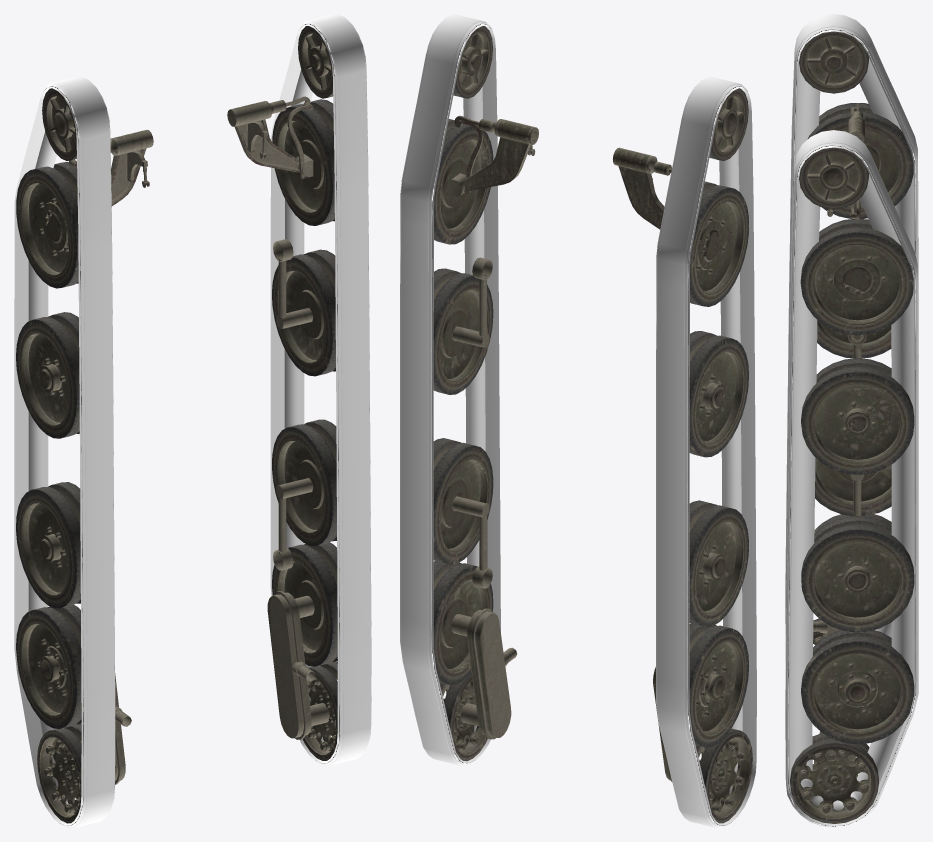
The model's file is Chassis.glb.
3 renders of one model, left to right at view 1: azimuth 30°, elevation 25°; view 2: azimuth 150°, elevation 25°; view 3: azimuth 270°, elevation 25°, orthographic. The views are drawn at different scales.
Parts seen in each view (by area): view 1: set_1_group_0, set_0_group_0, set_3_group_0, set_2_group_0; view 2: set_3_group_0, set_1_group_0, set_2_group_0, set_0_group_0; view 3: set_1_group_0, set_2_group_0, set_0_group_0, set_3_group_0.
Boxes of the visible parts, left/top/right/bottom form: set_1_group_0: left=227, top=26, right=337, bottom=760; set_0_group_0: left=16, top=88, right=153, bottom=823; set_3_group_0: left=14, top=76, right=115, bottom=827; set_2_group_0: left=270, top=14, right=371, bottom=765; set_3_group_0: left=656, top=76, right=756, bottom=827; set_1_group_0: left=433, top=26, right=538, bottom=761; set_2_group_0: left=400, top=14, right=500, bottom=765; set_0_group_0: left=613, top=88, right=752, bottom=823; set_1_group_0: left=790, top=147, right=914, bottom=823; set_2_group_0: left=785, top=130, right=918, bottom=827; set_0_group_0: left=799, top=31, right=913, bottom=644; set_3_group_0: left=785, top=14, right=918, bottom=662.
Size of the model in its own units: 2.25 by 5.44 by 0.9587.
Materials: 4 (2 with a texture image).
